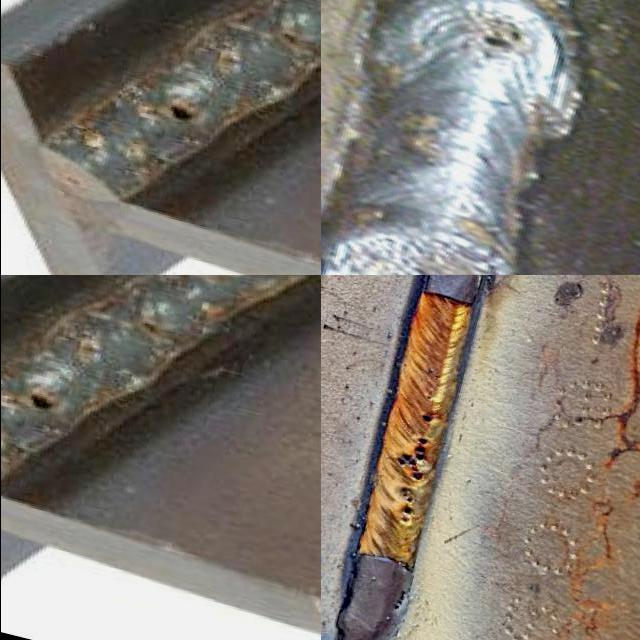defect: (388, 429, 431, 484), (467, 29, 527, 54), (162, 99, 199, 125), (22, 388, 59, 414), (395, 484, 419, 524), (390, 587, 412, 617), (418, 409, 436, 429)
